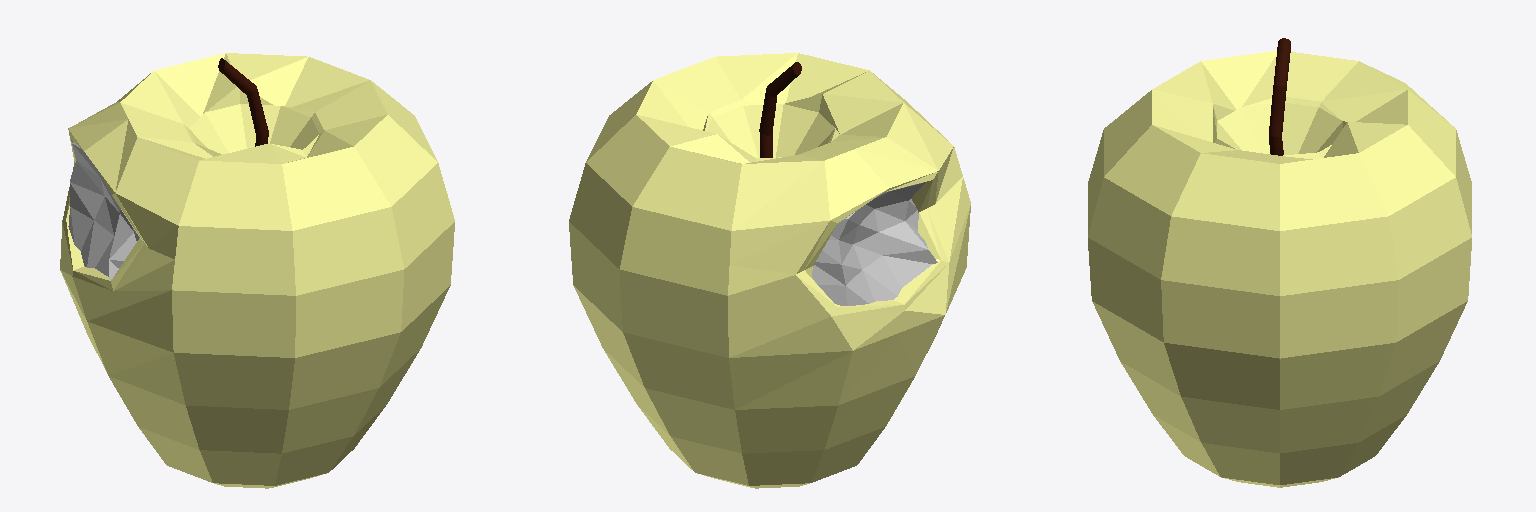
The model's file is manzana.obj.
The picture shows the model from 3 angles: view 1: azimuth 30°, elevation 25°; view 2: azimuth 150°, elevation 25°; view 3: azimuth 270°, elevation 25°; orthographic projection.
Visible parts, largest first — view 1: pSphere1, pPlane1, pCylinder1; view 2: pSphere1, pPlane1, pCylinder1; view 3: pSphere1, pCylinder1.
Part boxes in pixels (bbox=[...]): pSphere1: bbox=[60, 53, 454, 488]; pPlane1: bbox=[68, 142, 139, 279]; pCylinder1: bbox=[218, 58, 268, 146]; pSphere1: bbox=[569, 53, 970, 488]; pPlane1: bbox=[812, 182, 937, 305]; pCylinder1: bbox=[759, 62, 801, 157]; pSphere1: bbox=[1088, 51, 1471, 487]; pCylinder1: bbox=[1269, 38, 1290, 155].
Size of the model in its own units: 5.21 by 5.83 by 5.01.